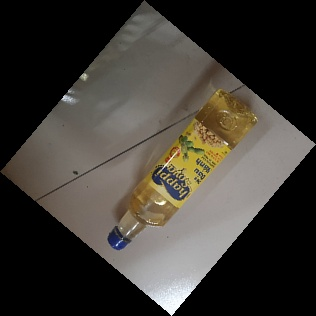Happy Soya: (107, 88, 260, 251)
